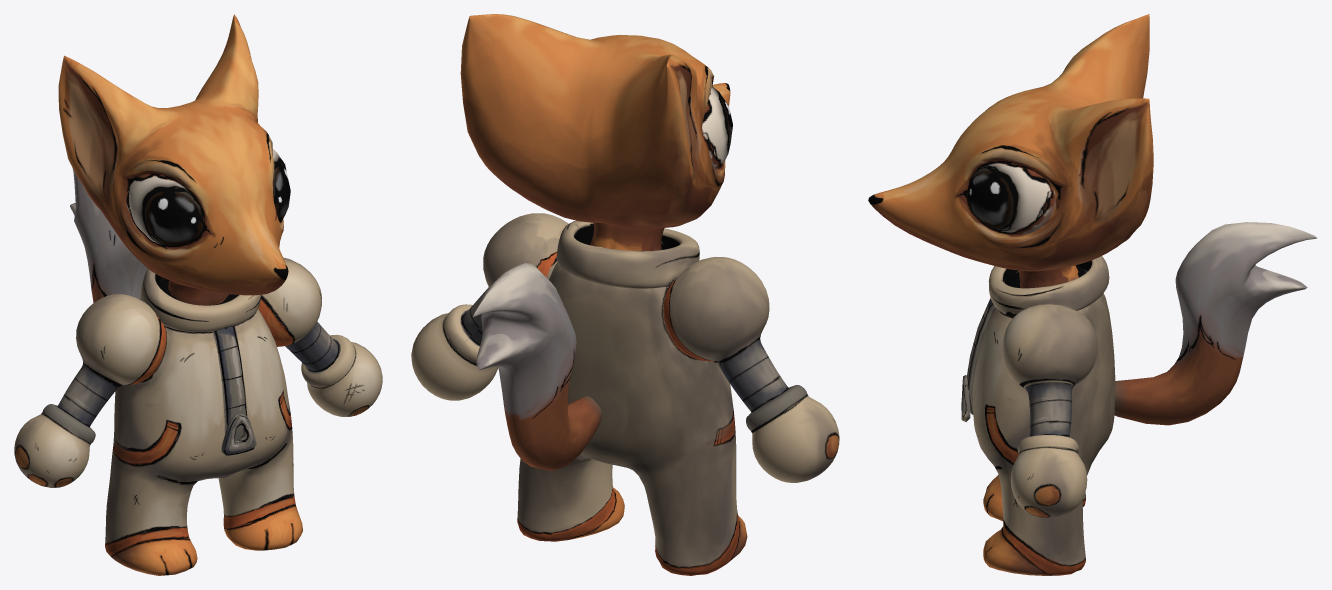
The model's file is Fox.fbx.
The picture shows the model from 3 angles, left to right: view 1: azimuth 30°, elevation 25°; view 2: azimuth 150°, elevation 25°; view 3: azimuth 270°, elevation 25°; orthographic projection. The views are drawn at different scales.
Parts seen in each view (by area): view 1: body, head, tail; view 2: body, head, tail; view 3: head, body, tail.
Part boxes in pixels (x1,y1,x2,y2): body: (14,257,382,575); head: (58,14,290,295); tail: (70,167,147,302); body: (411,213,839,575); head: (460,14,732,229); tail: (473,263,602,471); head: (868,14,1153,271); body: (961,256,1115,575); tail: (1114,222,1316,425).
Size of the model in its own units: 146 by 183 by 156.
1 material, 1 textured.
